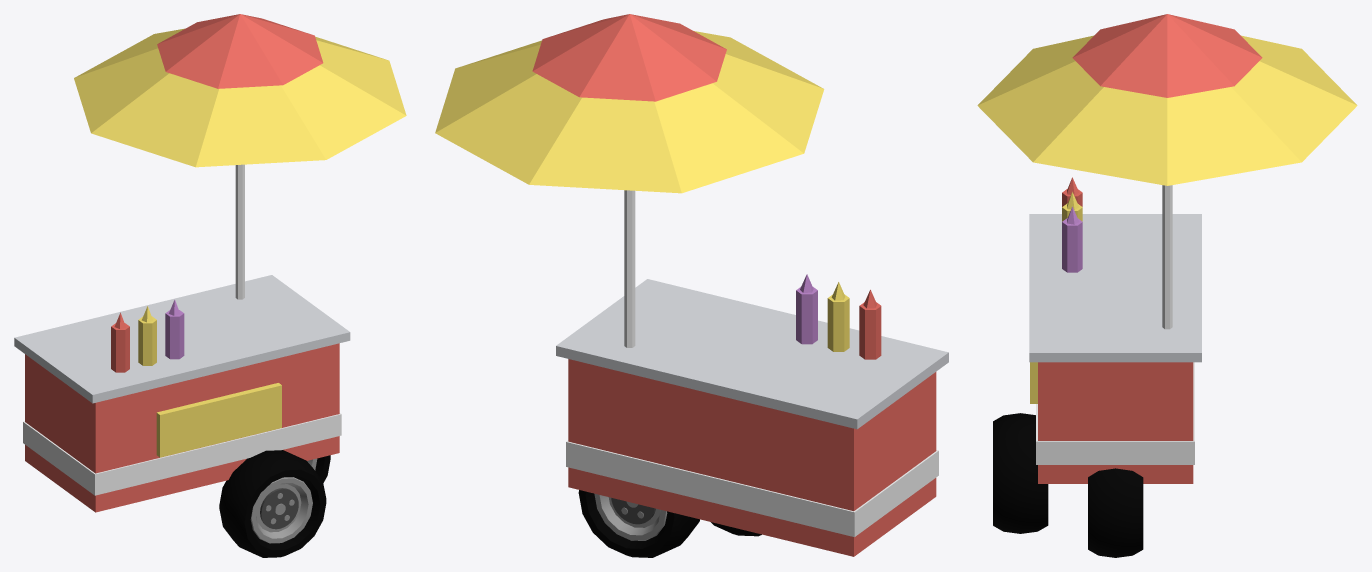
The model's file is HotdogStand.fbx.
3 renders of one model, left to right at view 1: azimuth 30°, elevation 25°; view 2: azimuth 150°, elevation 25°; view 3: azimuth 270°, elevation 25°, orthographic. The views are drawn at different scales.
Visible parts, largest first — view 1: Body, Tire_L.001, Tire_L, Tire_L.003; view 2: Body, Tire_R.001, Tire_R, Tire_R.003; view 3: Body, Tire_L.001, Tire_R.001.
Part boxes in pixels (x1,y1,x2,y2): Body: (14,14,406,512); Tire_L.001: (219,450,326,557); Tire_L: (250,477,312,543); Tire_L.003: (260,488,298,529); Body: (435,14,948,556); Tire_R.001: (578,490,699,557); Tire_R: (594,493,667,540); Tire_R.003: (611,498,655,524); Body: (977,14,1357,483); Tire_L.001: (993,413,1048,533); Tire_R.001: (1088,468,1143,557).
Bounding box in the file's own units: 2.65 × 3.4 × 2.2.
